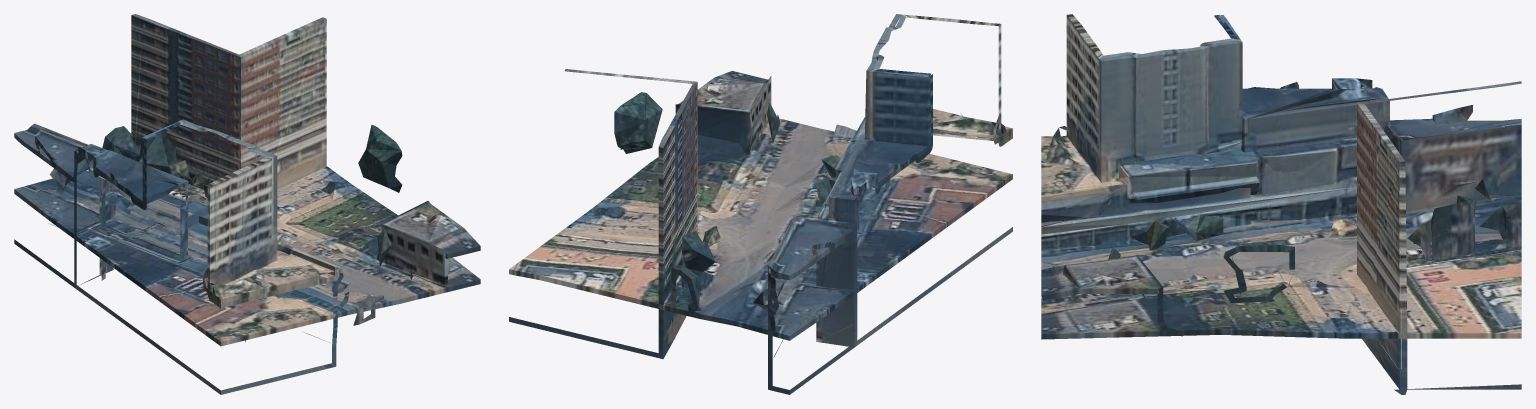
Rendered from chunk_-9_3.glb.
The picture shows the model from 3 angles, left to right: view 1: azimuth 30°, elevation 25°; view 2: azimuth 150°, elevation 25°; view 3: azimuth 270°, elevation 25°; orthographic projection. The views are drawn at different scales.
Parts seen in each view (by area): view 1: hero-chunk; view 2: hero-chunk; view 3: hero-chunk.
Boxes of the visible parts, x1,y1,x2,y2 form: hero-chunk: (14,14,480,394); hero-chunk: (509,14,1012,394); hero-chunk: (1041,14,1521,394).
Size of the model in its own units: 55.74 by 40.85 by 76.33.
1 material, 1 textured.
